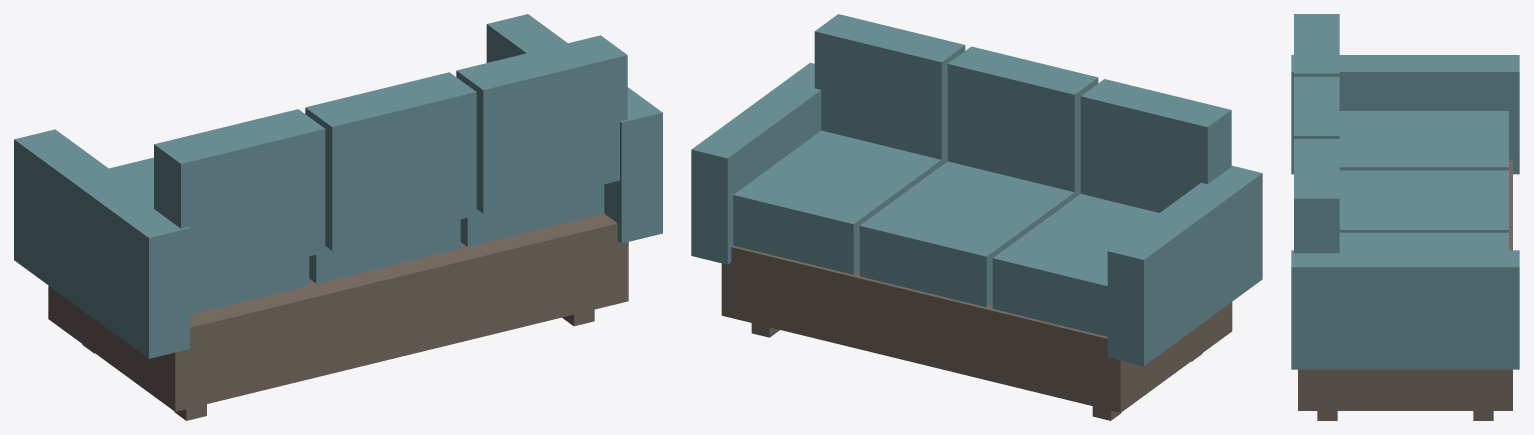
Rendered from bench_waiting_padded.glb.
The picture shows the model from 3 angles, left to right: view 1: azimuth 30°, elevation 25°; view 2: azimuth 150°, elevation 25°; view 3: azimuth 270°, elevation 25°; orthographic projection. The views are drawn at different scales.
Parts seen in each view (by area): view 1: body; view 2: body; view 3: body.
Boxes of the visible parts, <box> form: body: <box>14,14,662,420</box>; body: <box>691,14,1262,420</box>; body: <box>1291,14,1519,420</box>.
Size of the model in its own units: 1.87 by 0.945 by 0.85.
